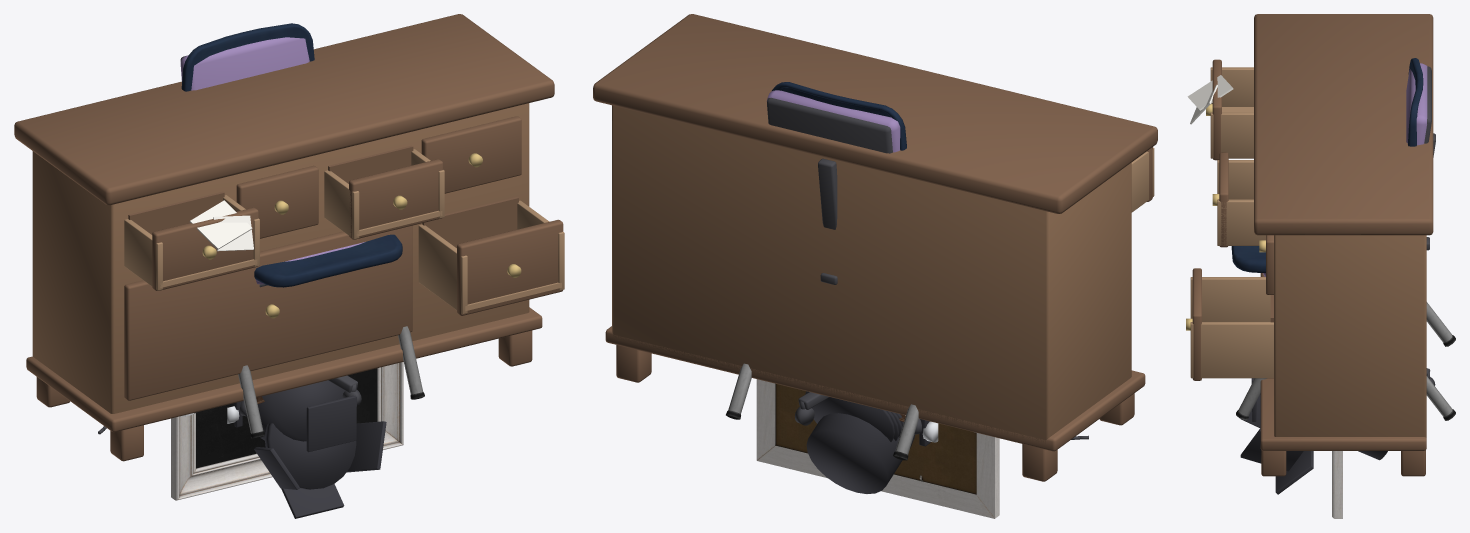
The model's file is scene_props_3d.glb.
The picture shows the model from 3 angles, left to right: view 1: azimuth 30°, elevation 25°; view 2: azimuth 150°, elevation 25°; view 3: azimuth 270°, elevation 25°; orthographic projection. The views are drawn at different scales.
Visible parts, largest first — view 1: Prop_Wooden_Dresser, Prop_Interrogation_Spotlight, Prop_Picture_Frame, Prop_Interrogation_Chair, Prop_Swivel_Chair; view 2: Prop_Wooden_Dresser, Prop_Picture_Frame, Prop_Interrogation_Spotlight, Prop_Swivel_Chair, Prop_Interrogation_Chair; view 3: Prop_Wooden_Dresser, Prop_Interrogation_Chair, Prop_Interrogation_Spotlight, Prop_Swivel_Chair, Prop_Picture_Frame.
Boxes of the visible parts, bbox=[...] form: Prop_Wooden_Dresser: bbox=[14, 14, 564, 461]; Prop_Interrogation_Spotlight: bbox=[227, 380, 386, 518]; Prop_Picture_Frame: bbox=[171, 362, 403, 500]; Prop_Interrogation_Chair: bbox=[181, 23, 424, 438]; Prop_Swivel_Chair: bbox=[180, 37, 364, 416]; Prop_Wooden_Dresser: bbox=[593, 14, 1157, 481]; Prop_Picture_Frame: bbox=[756, 379, 999, 518]; Prop_Interrogation_Spotlight: bbox=[805, 391, 938, 493]; Prop_Swivel_Chair: bbox=[766, 90, 921, 434]; Prop_Interrogation_Chair: bbox=[726, 82, 918, 460]; Prop_Wooden_Dresser: bbox=[1186, 14, 1433, 476]; Prop_Interrogation_Chair: bbox=[1231, 58, 1455, 420]; Prop_Interrogation_Spotlight: bbox=[1240, 378, 1387, 494]; Prop_Swivel_Chair: bbox=[1260, 63, 1435, 394]; Prop_Picture_Frame: bbox=[1332, 451, 1342, 518].
Bounding box in the file's own units: 1.48 × 1.34 × 0.8116.
16 materials, 6 textured.
